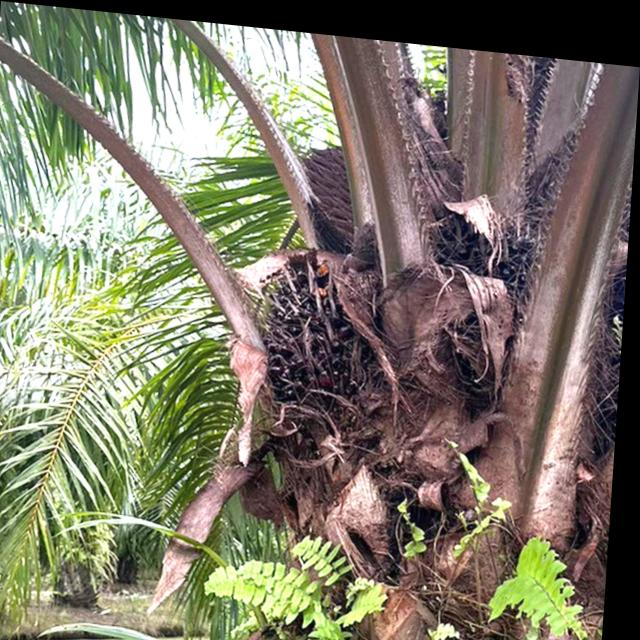ripe: (247, 231, 388, 429)
